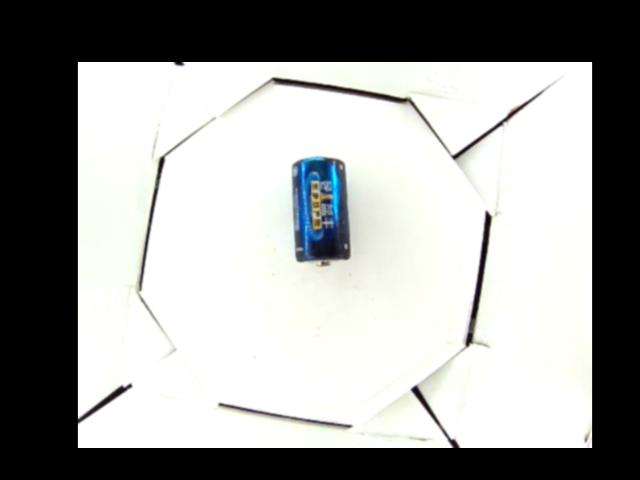Battery: (291, 156, 351, 267)
